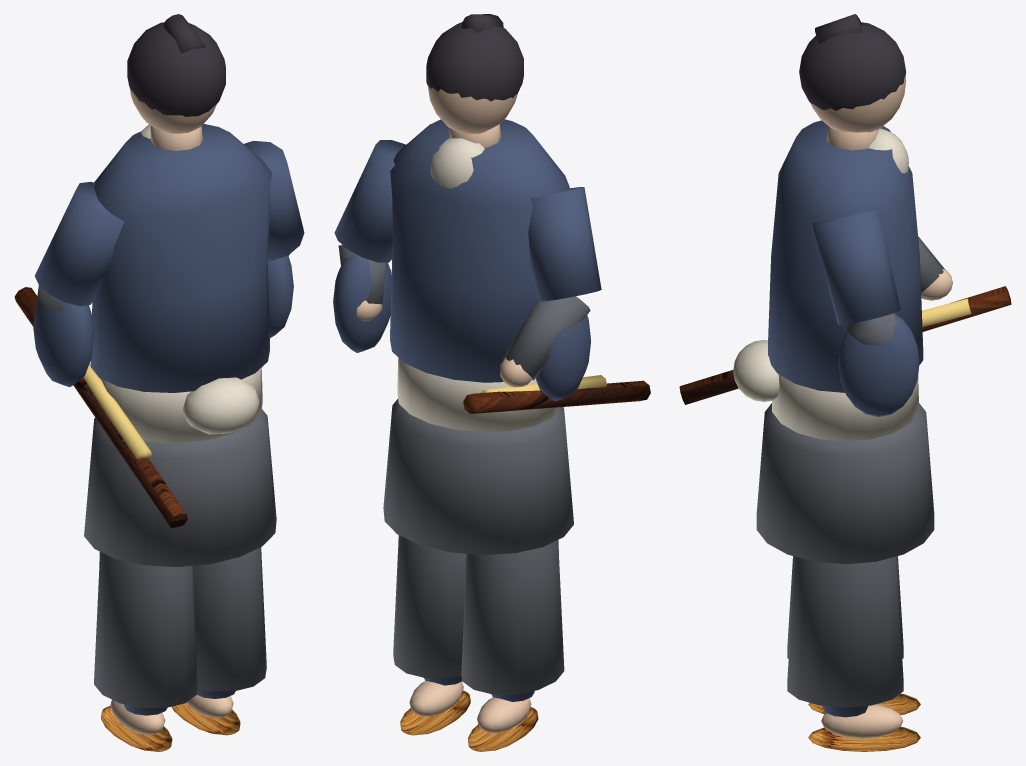
File: edo_person_samurai.glb
3 renders of one model, left to right at view 1: azimuth 30°, elevation 25°; view 2: azimuth 150°, elevation 25°; view 3: azimuth 270°, elevation 25°, orthographic.
Visible parts, largest first — view 1: person_upper, person_leg_l, person_leg_r; view 2: person_upper, person_leg_l, person_leg_r; view 3: person_upper, person_leg_r, person_leg_l.
Boxes of the visible parts, <box> form: person_upper: <box>14,14,304,566</box>; person_leg_l: <box>94,552,197,751</box>; person_leg_r: <box>172,547,266,735</box>; person_upper: <box>333,14,650,554</box>; person_leg_l: <box>461,539,564,751</box>; person_leg_r: <box>393,535,470,735</box>; person_upper: <box>679,14,1011,564</box>; person_leg_r: <box>787,556,920,751</box>; person_leg_l: <box>787,556,920,714</box>.
Bounding box in the file's own units: 0.6278 × 1.65 × 0.6946.
Materials: 8 (2 with a texture image).
